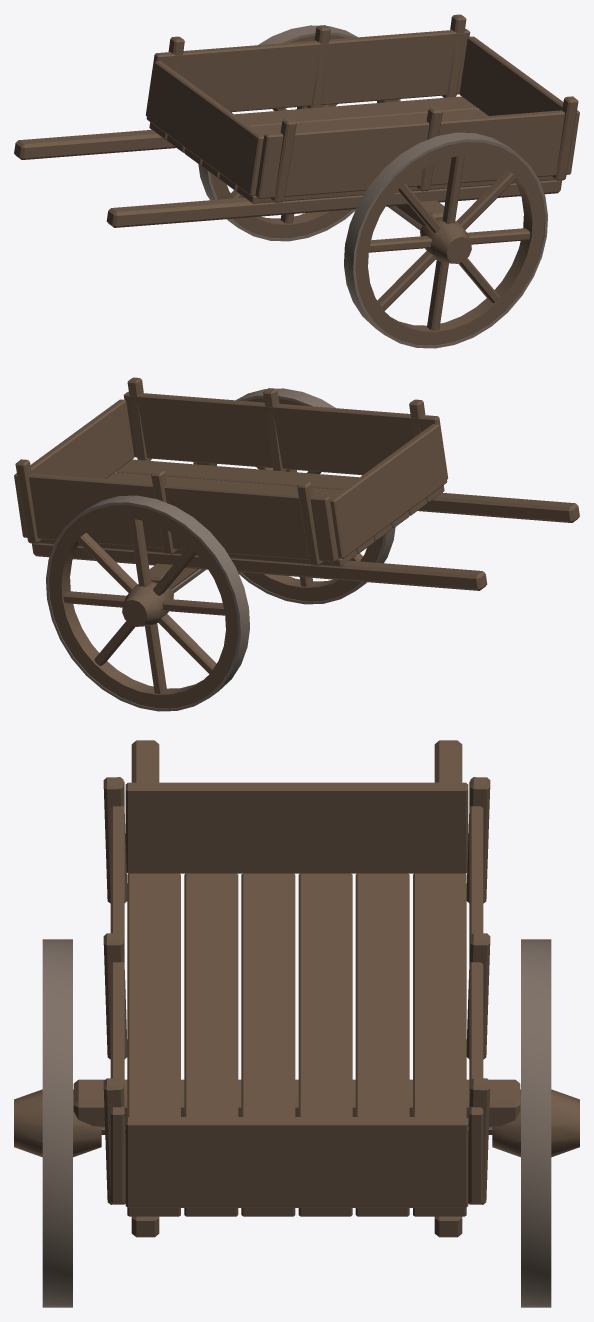
The model's file is cart_wood.glb.
The picture shows the model from 3 angles, top to bottom: view 1: azimuth 30°, elevation 25°; view 2: azimuth 150°, elevation 25°; view 3: azimuth 270°, elevation 25°; orthographic projection. The views are drawn at different scales.
Parts seen in each view (by area): view 1: cart_wood_body; view 2: cart_wood_body; view 3: cart_wood_body.
Part boxes in pixels (<box>): cart_wood_body: <box>14,14,579,348</box>; cart_wood_body: <box>14,377,579,711</box>; cart_wood_body: <box>14,740,579,1307</box>.
Bounding box in the file's own units: 2.2 × 1.11 × 1.42.
